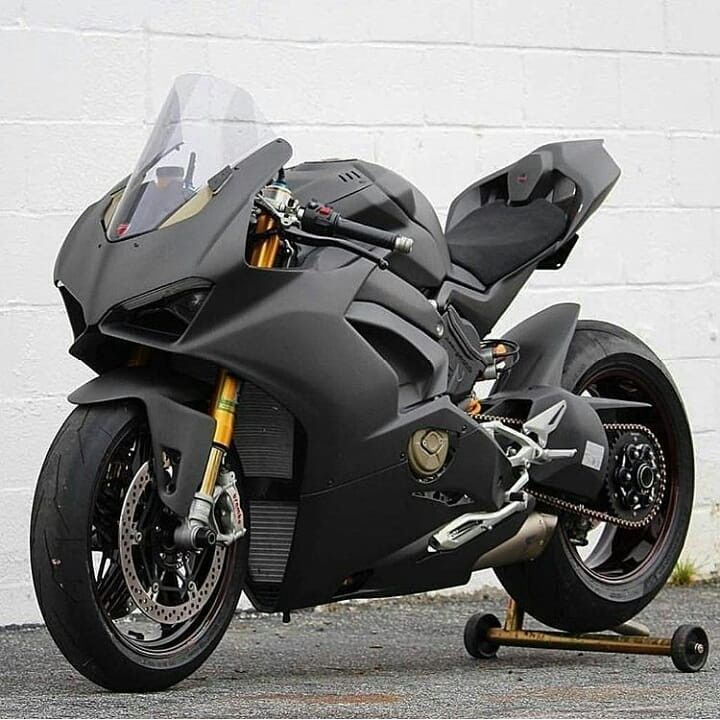motorcycle: (27, 72, 709, 695)
